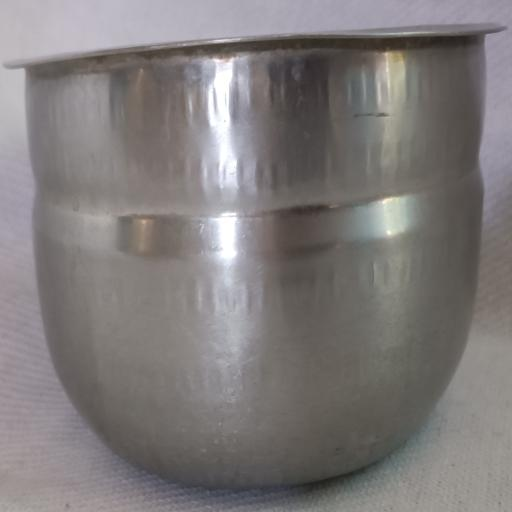vessel: (12, 24, 502, 487)
